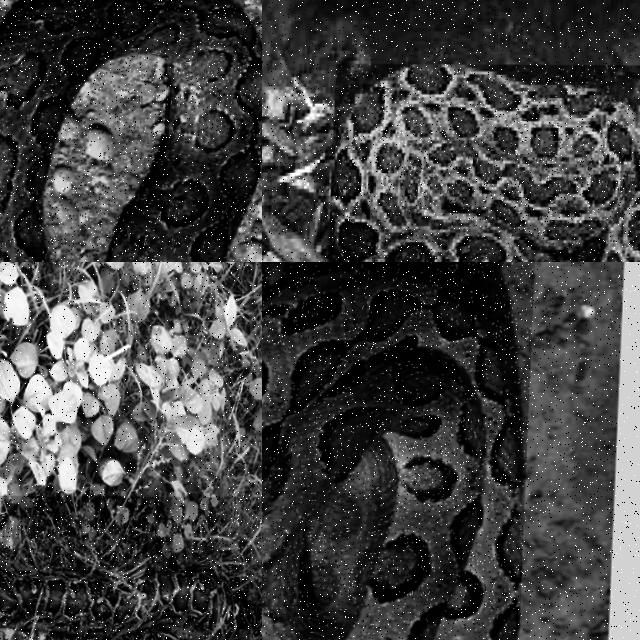Daboia siamensis: (262, 271, 522, 639), (0, 0, 261, 261), (330, 64, 639, 261)
Python bivittatus: (0, 569, 261, 639)
